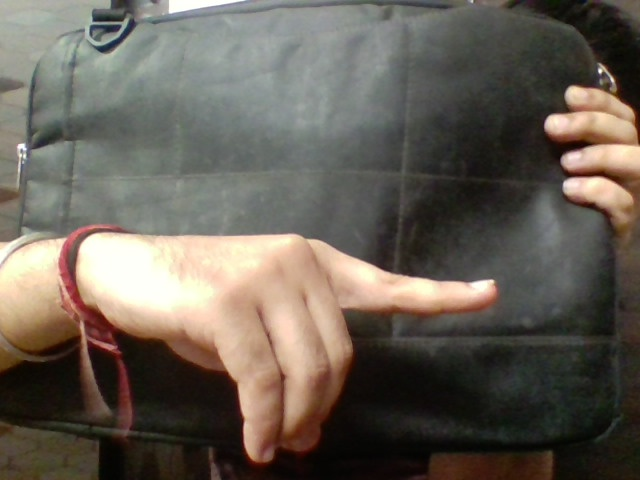p: (147, 194, 516, 460)
